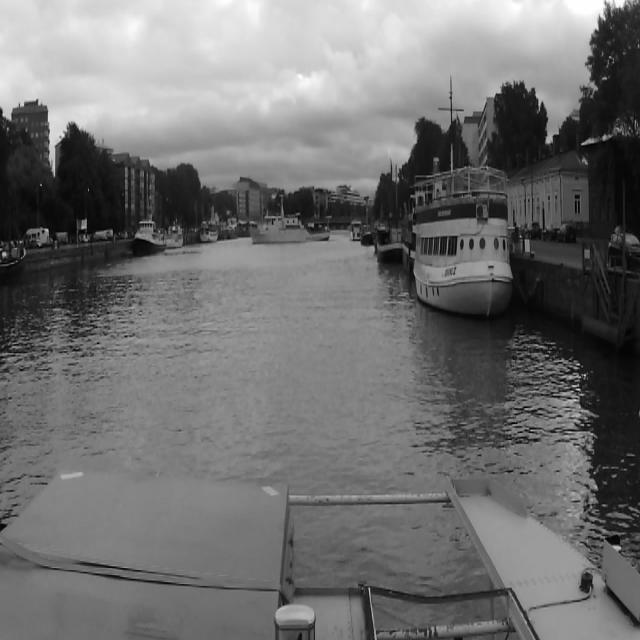ship: (412, 167, 519, 326), (249, 192, 331, 245), (134, 221, 166, 255), (199, 223, 219, 241)
